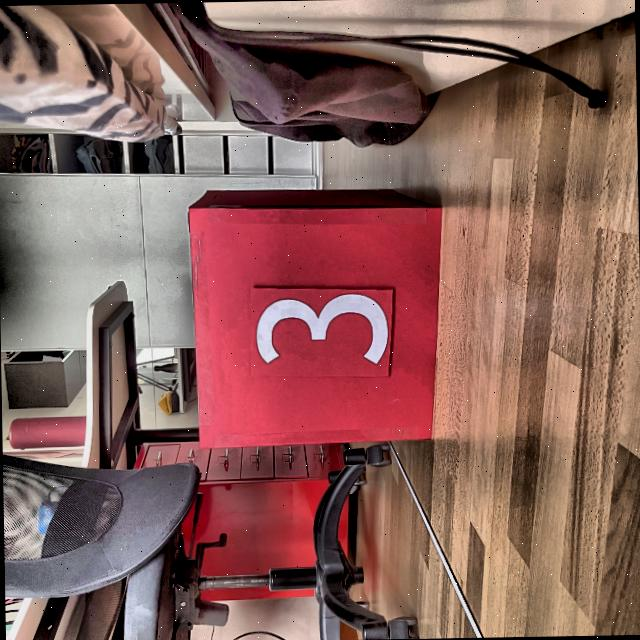red box: (189, 188, 435, 443)
three: (252, 287, 398, 373)
